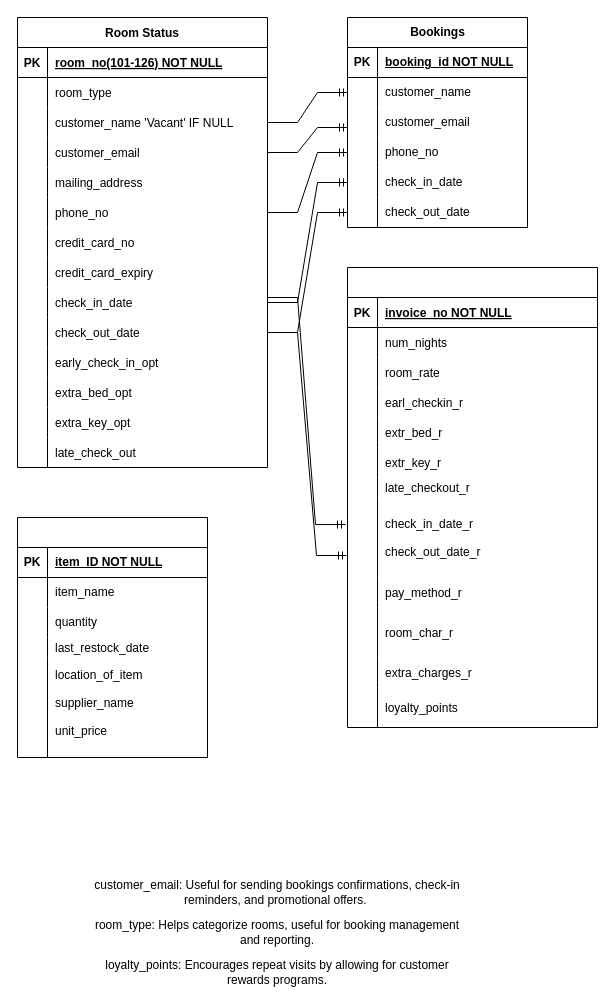
Image size: 615x1005. Some labels were removed from this diagram. Each missing label, with the box of its shape:
Revenue: (346, 266, 598, 728)
Supply: (16, 516, 208, 758)
